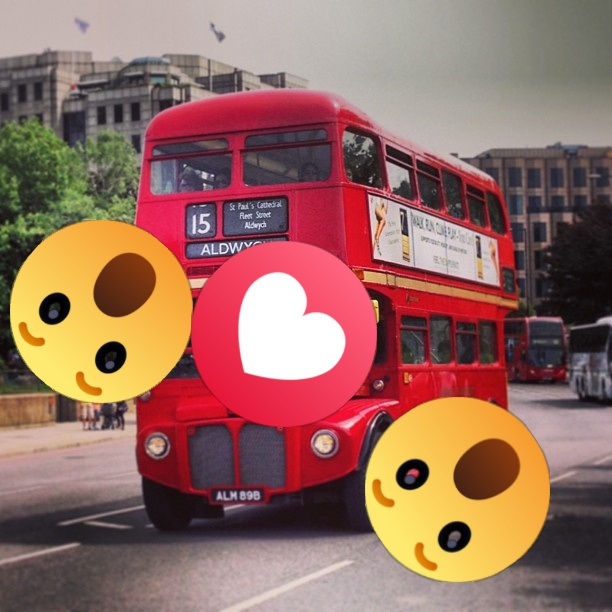love: (191, 241, 377, 427)
wow: (365, 397, 550, 582), (10, 220, 193, 403)
